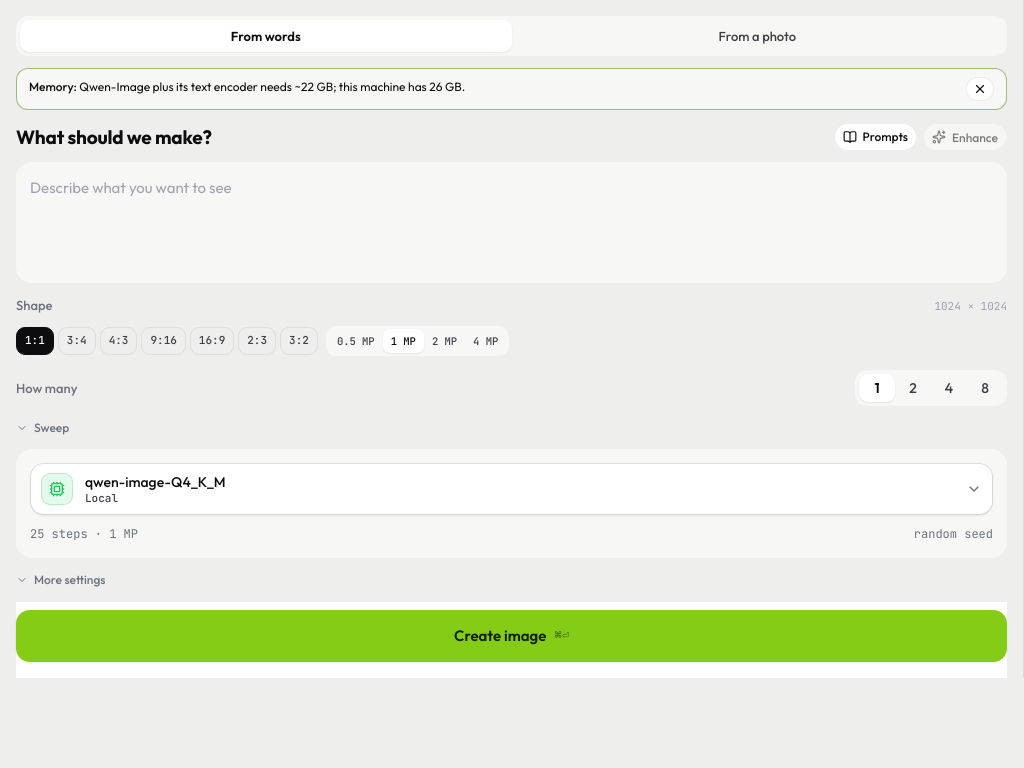
it: Composer › the memory warning banner renders from the preflight verdict and dismisses
Expected: the text "needs ~22 GB" is shown, [79,79,465,94]
Click the button named "Dismiss memory warning" at (980, 89), box [966,77,994,101]
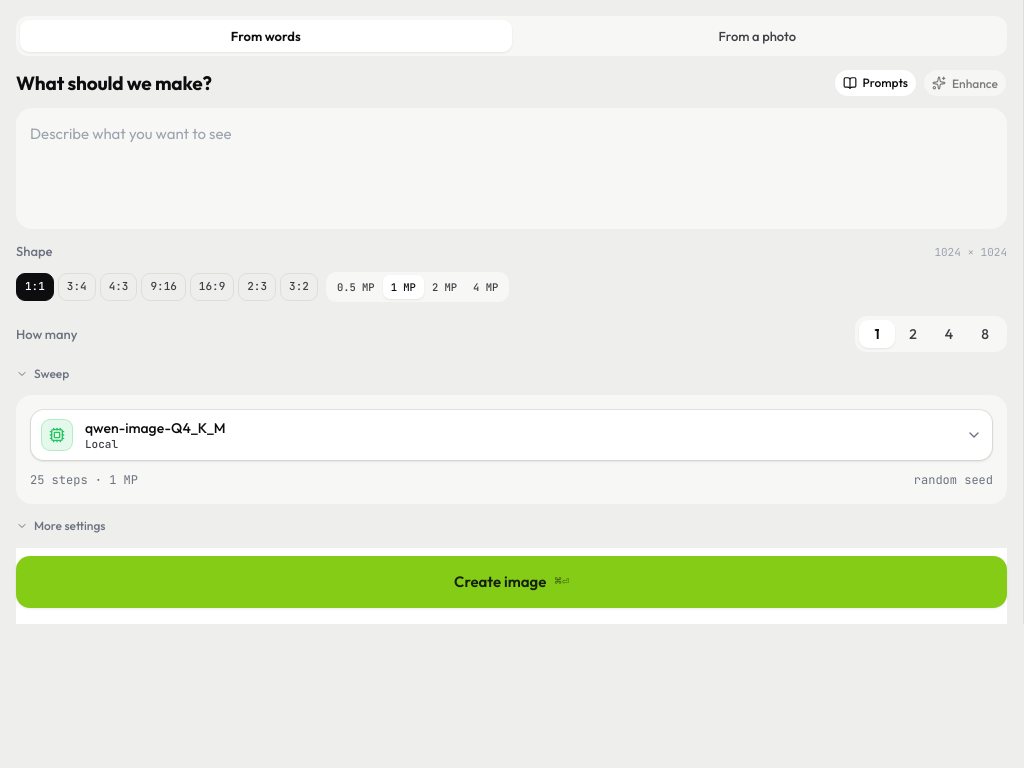
Now the text "needs ~22 GB" is gone
